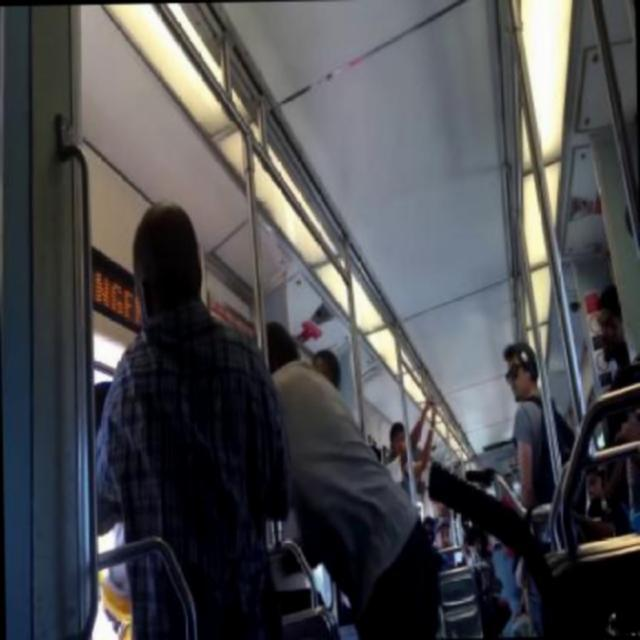non-fight: (95, 202, 291, 638), (502, 344, 570, 502)
